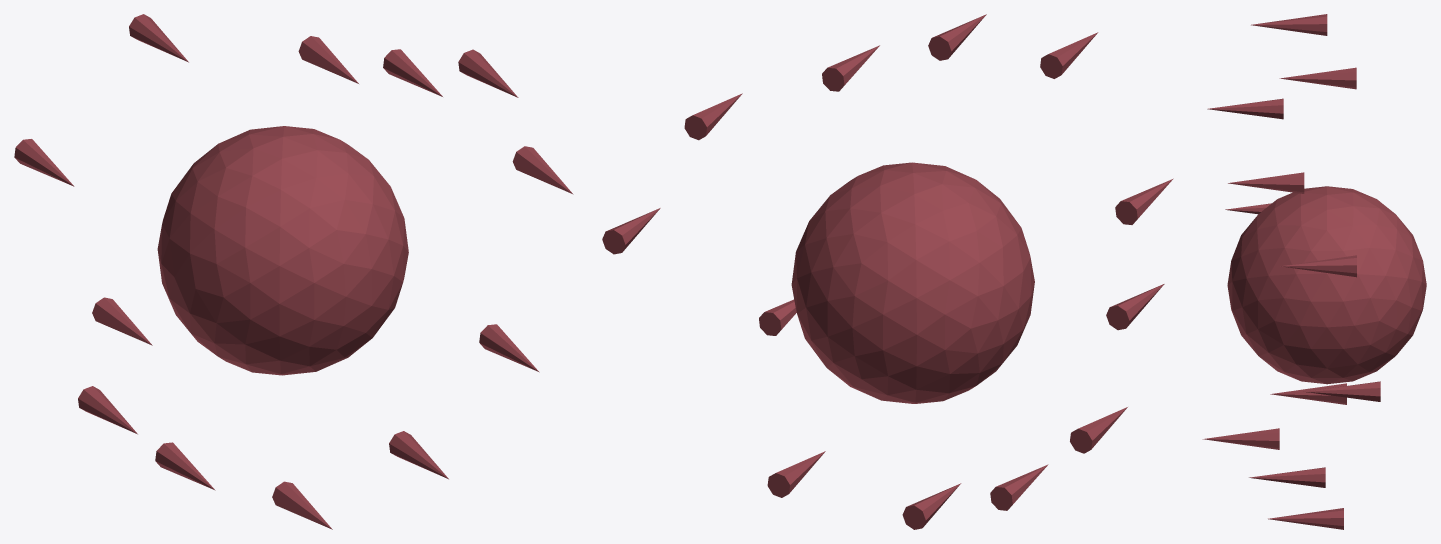
Rendered from nature_164.glb.
3 views of the same model, side by side, from view 1: azimuth 30°, elevation 25°; view 2: azimuth 150°, elevation 25°; view 3: azimuth 270°, elevation 25° (orthographic). The views are drawn at different scales.
Visible parts, largest first — view 1: world; view 2: world; view 3: world.
Part boxes in pixels (<box>): world: <box>14,14,573,529</box>; world: <box>602,14,1173,529</box>; world: <box>1202,14,1426,529</box>.
Size of the model in its own units: 2.22 by 2.08 by 1.01.
